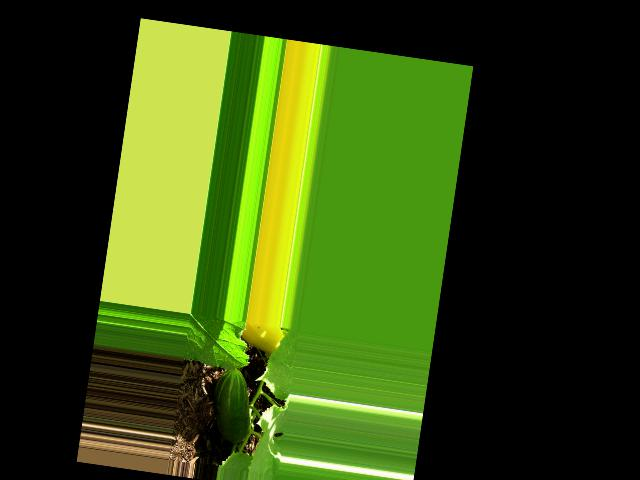cucumber: (206, 366, 257, 445)
